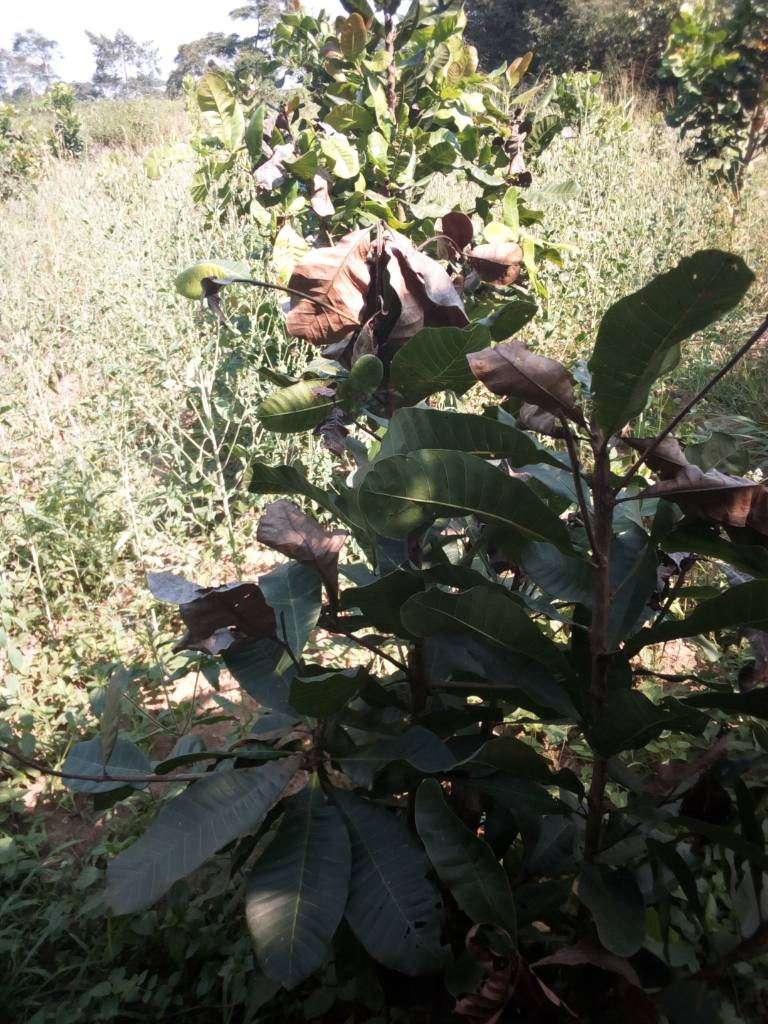Dessèchement des bourgeons: (353, 222, 401, 337)
